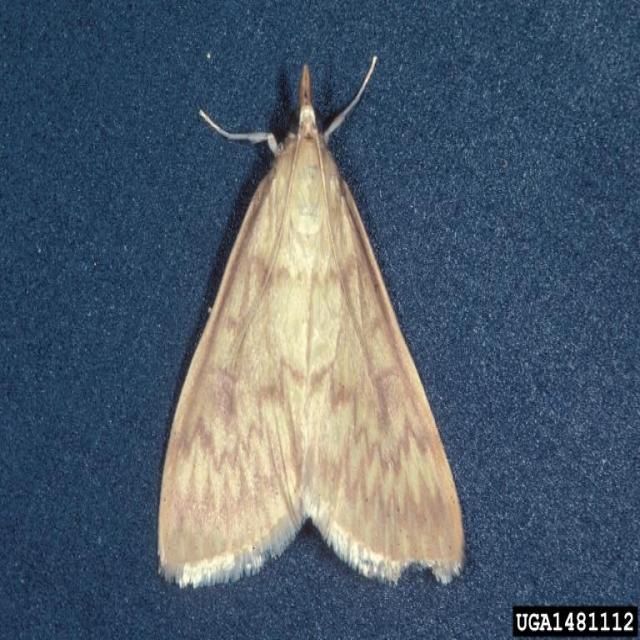cornborer-Adult-: (131, 33, 491, 610)
